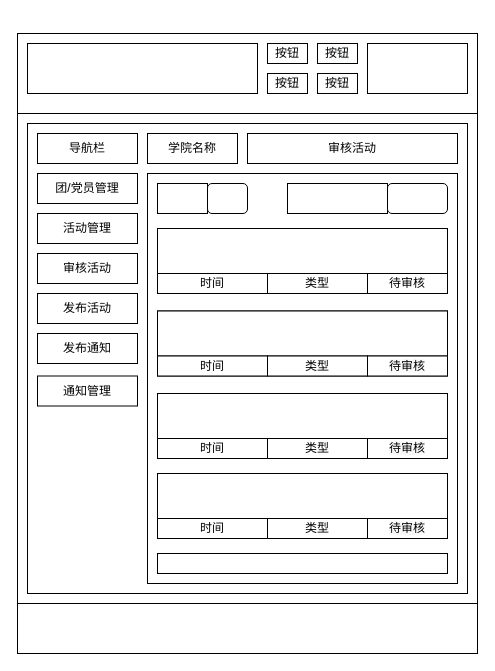
The diagram is 495 pixels wide and 671 high, and some of its shapes have lost their labels. Each missing label, with the centre of its shape:
"分页页码" goes at point (302, 563).
"底部导航栏&联系发邮件" goes at point (247, 628).
"当前登录学生信息显示（跳转主页）" goes at point (417, 68).
"搜索" goes at point (417, 198).
"筛选" goes at point (227, 198).
"类型（选择框）" goes at point (182, 198).
"网站标题（文字+图片）" goes at point (142, 68).
